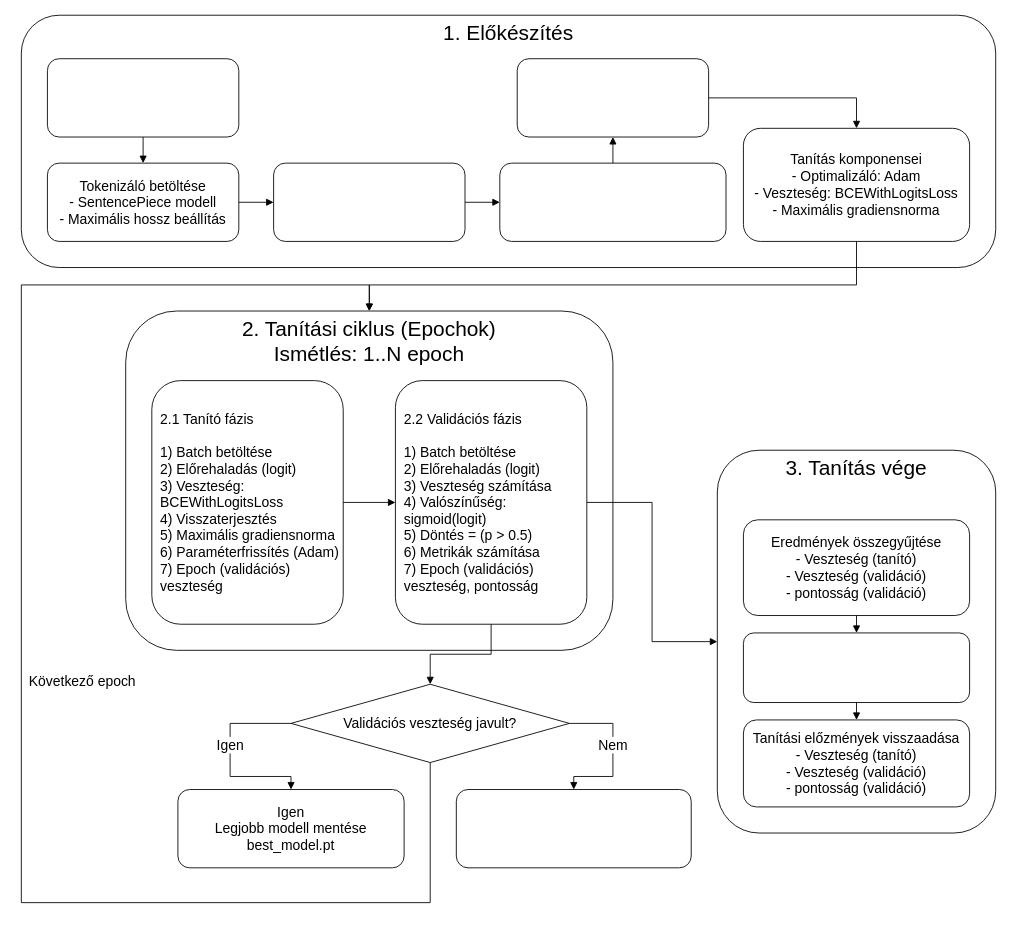
This 1011x925 diagram has some shape labels left out. Here are the shapes that lost their labels. From the top down, the centre of each, then its label:
the point at 143,97: Adatok betöltése - Tanító CSV - Validációs CSV
the point at 612,97: Modell inicializálása - BiLSTM modell - Hiperparaméterek
the point at 369,201: Adatfeldolgozás - Adathalmaz létrehozás - Tokenizálás és maszkolás
the point at 612,201: DataLoaderek létrehozása - Train DataLoader - Val DataLoader
the point at 856,667: Végső modell mentése (utolsó epoch)
the point at 573,828: Nem Időszakos mentése checkpoint_epoch_{n}.pt
